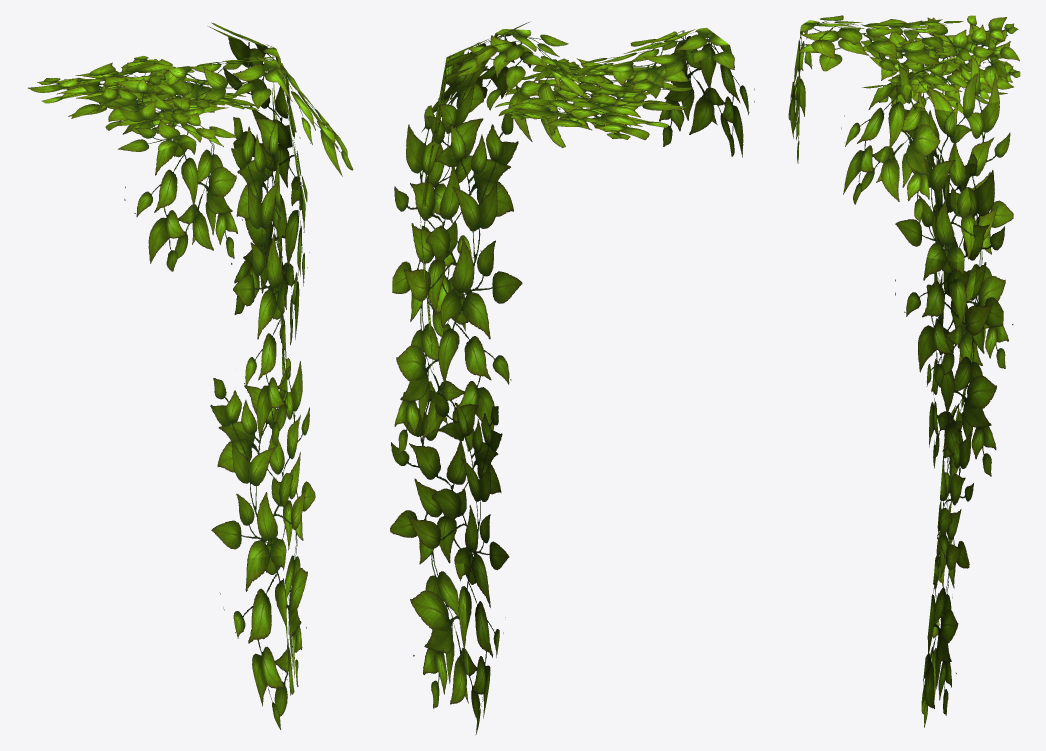
File: obj_prop_ivy.FBX
3 renders of one model, left to right at view 1: azimuth 30°, elevation 25°; view 2: azimuth 150°, elevation 25°; view 3: azimuth 270°, elevation 25°, orthographic. The views are drawn at different scales.
Visible parts, largest first — view 1: obj_plant_ivy; view 2: obj_plant_ivy; view 3: obj_plant_ivy.
Boxes of the visible parts, x1,y1,x2,y2 form: obj_plant_ivy: (28,22,353,729); obj_plant_ivy: (390,22,754,734); obj_plant_ivy: (788,15,1020,727).
Size of the model in its own units: 13.82 by 33.45 by 11.4.
Materials: 1 (1 with a texture image).
